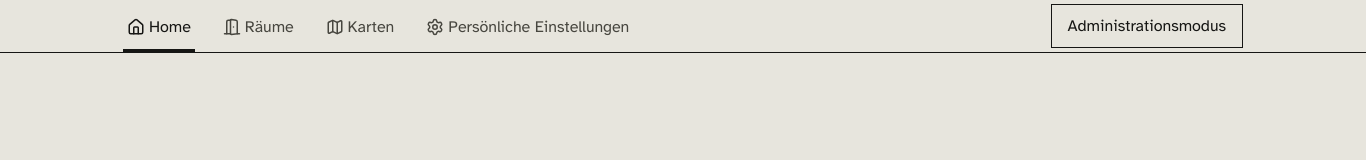
Navigation › reports a failed mode change
Step 1. Click the button "Administrationsmodus" → (1147, 26), box [1050,4,1243,48]
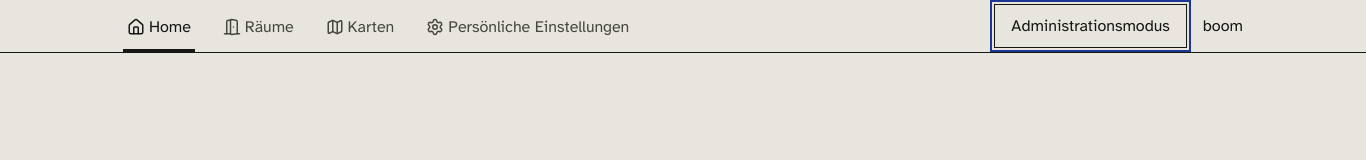
Check: the message reads "boom", box [1203,16,1243,36]
